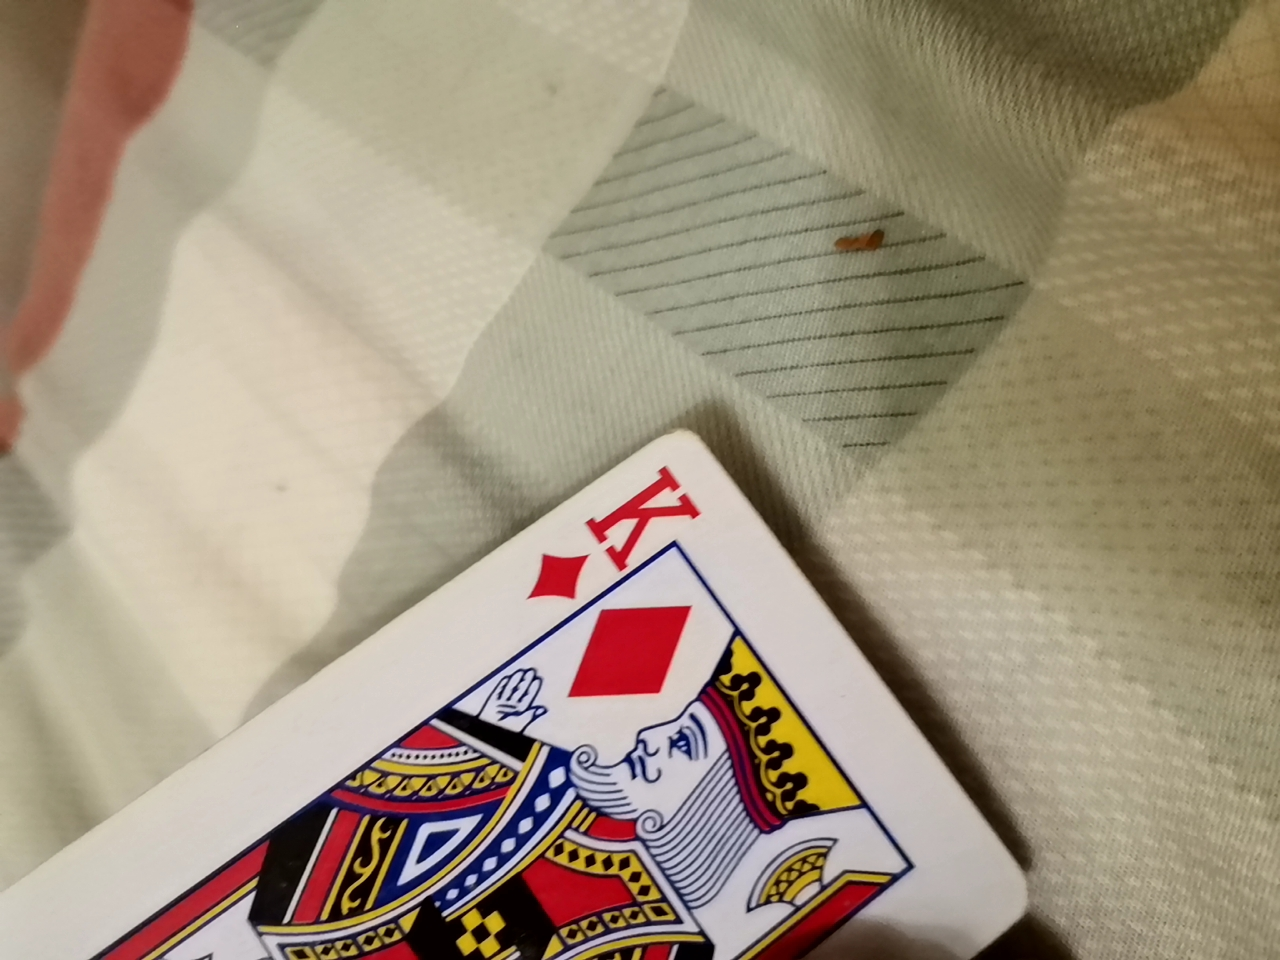fk k: (0, 427, 1064, 955)
